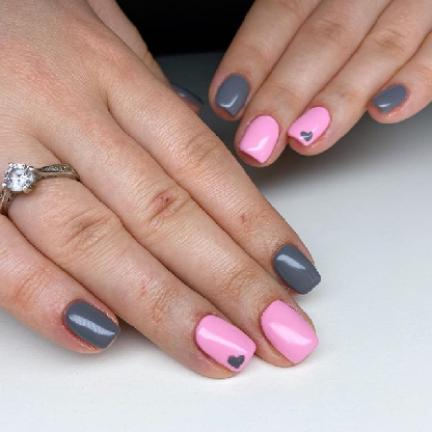Nail: (260, 300, 318, 363), (195, 315, 256, 372), (64, 301, 120, 349), (273, 244, 321, 294), (239, 115, 280, 163), (288, 106, 331, 146), (215, 74, 250, 116), (371, 84, 408, 114)
